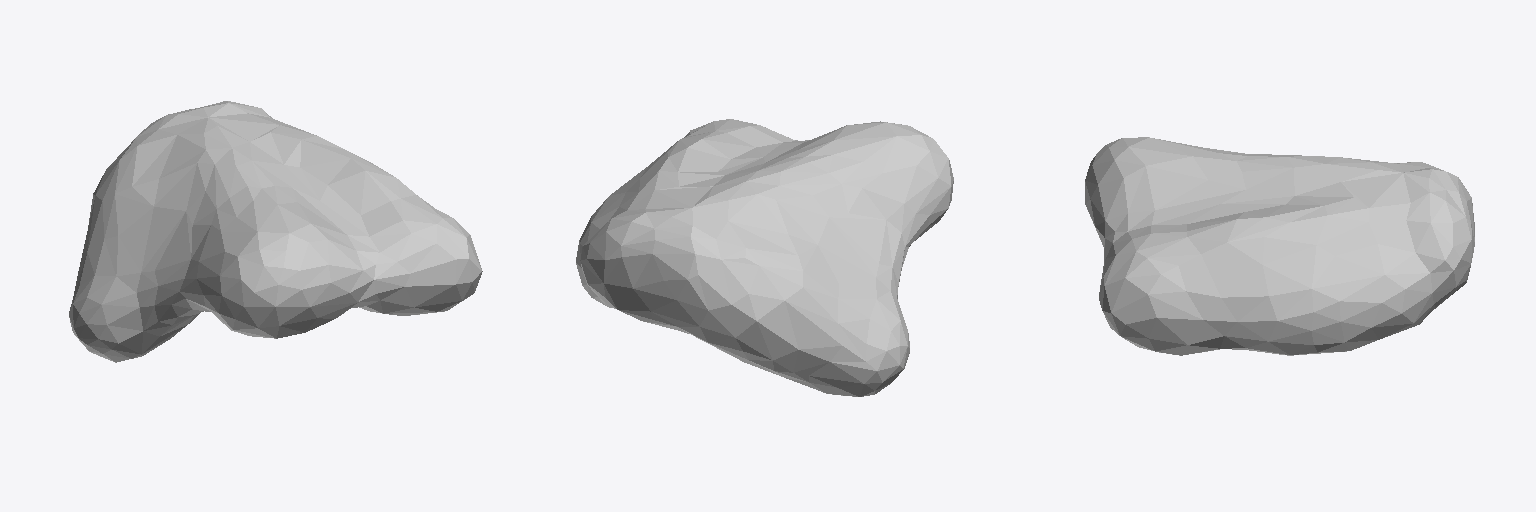
File: HandPalm2FingerLeft.obj
3 renders of one model, left to right at view 1: azimuth 30°, elevation 25°; view 2: azimuth 150°, elevation 25°; view 3: azimuth 270°, elevation 25°, orthographic.
Parts seen in each view (by area): view 1: Cube.001; view 2: Cube.001; view 3: Cube.001.
Boxes of the visible parts, <box> form: Cube.001: <box>69,101,482,362</box>; Cube.001: <box>576,119,953,396</box>; Cube.001: <box>1085,137,1474,355</box>.
Bounding box in the file's own units: 2.52 × 1.4 × 2.7.